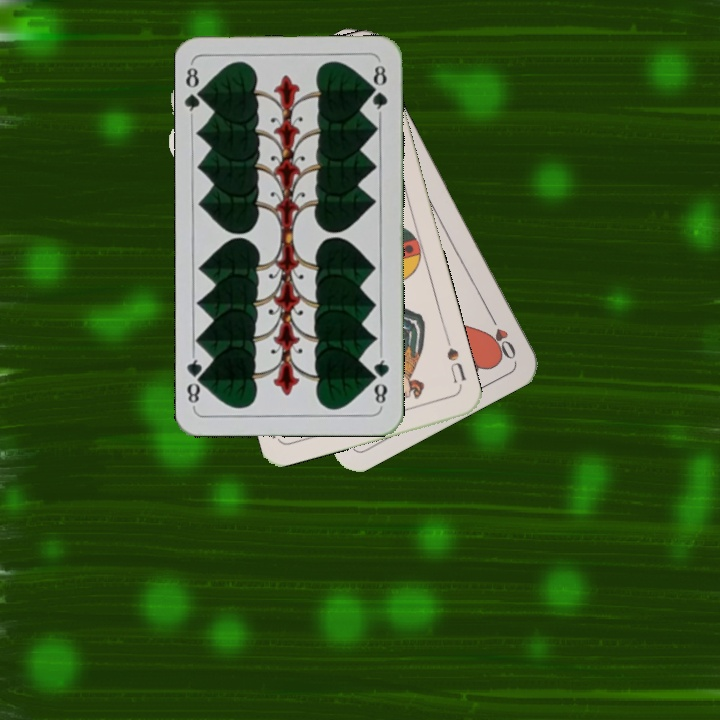G8: (182, 61, 209, 120), (368, 350, 392, 409)
HO: (484, 307, 519, 363)
SU: (442, 333, 469, 391)
